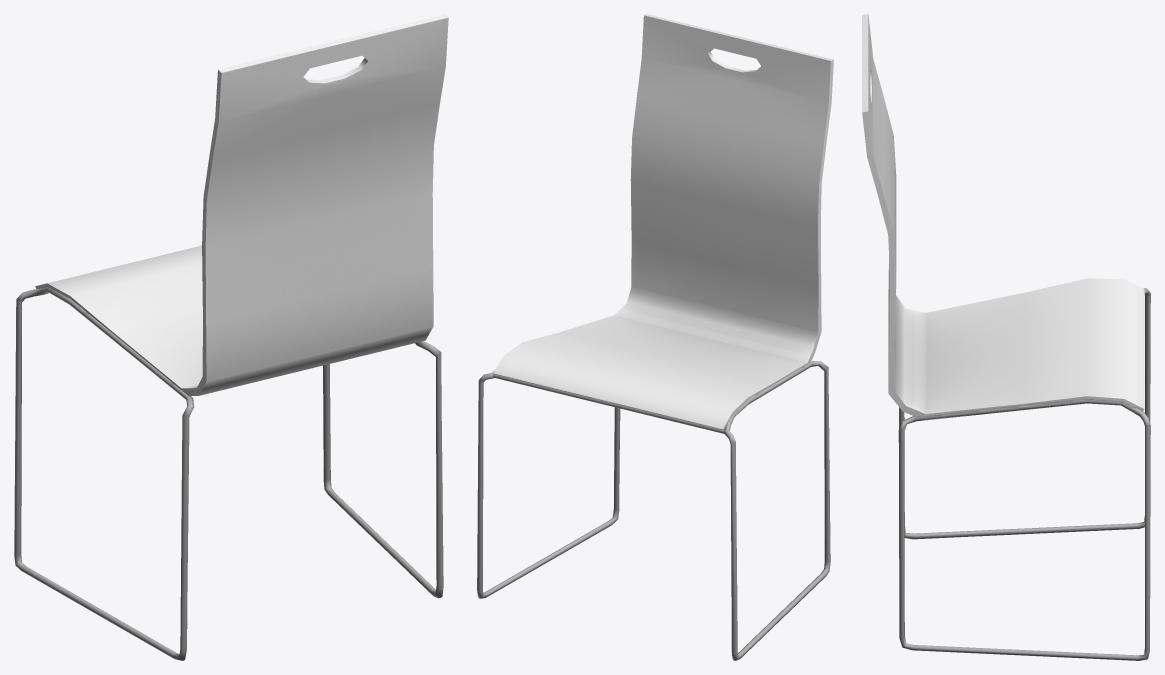
File: chairAvans.fbx
3 renders of one model, left to right at view 1: azimuth 30°, elevation 25°; view 2: azimuth 150°, elevation 25°; view 3: azimuth 270°, elevation 25°, orthographic. The views are drawn at different scales.
Parts seen in each view (by area): view 1: chairAvans; view 2: chairAvans; view 3: chairAvans.
Part boxes in pixels (bbox=[...]): chairAvans: bbox=[14, 14, 448, 660]; chairAvans: bbox=[477, 14, 833, 660]; chairAvans: bbox=[862, 14, 1150, 660].
Bounding box in the file's own units: 1.27 × 2.32 × 1.14.
Materials: 1 (1 with a texture image).
